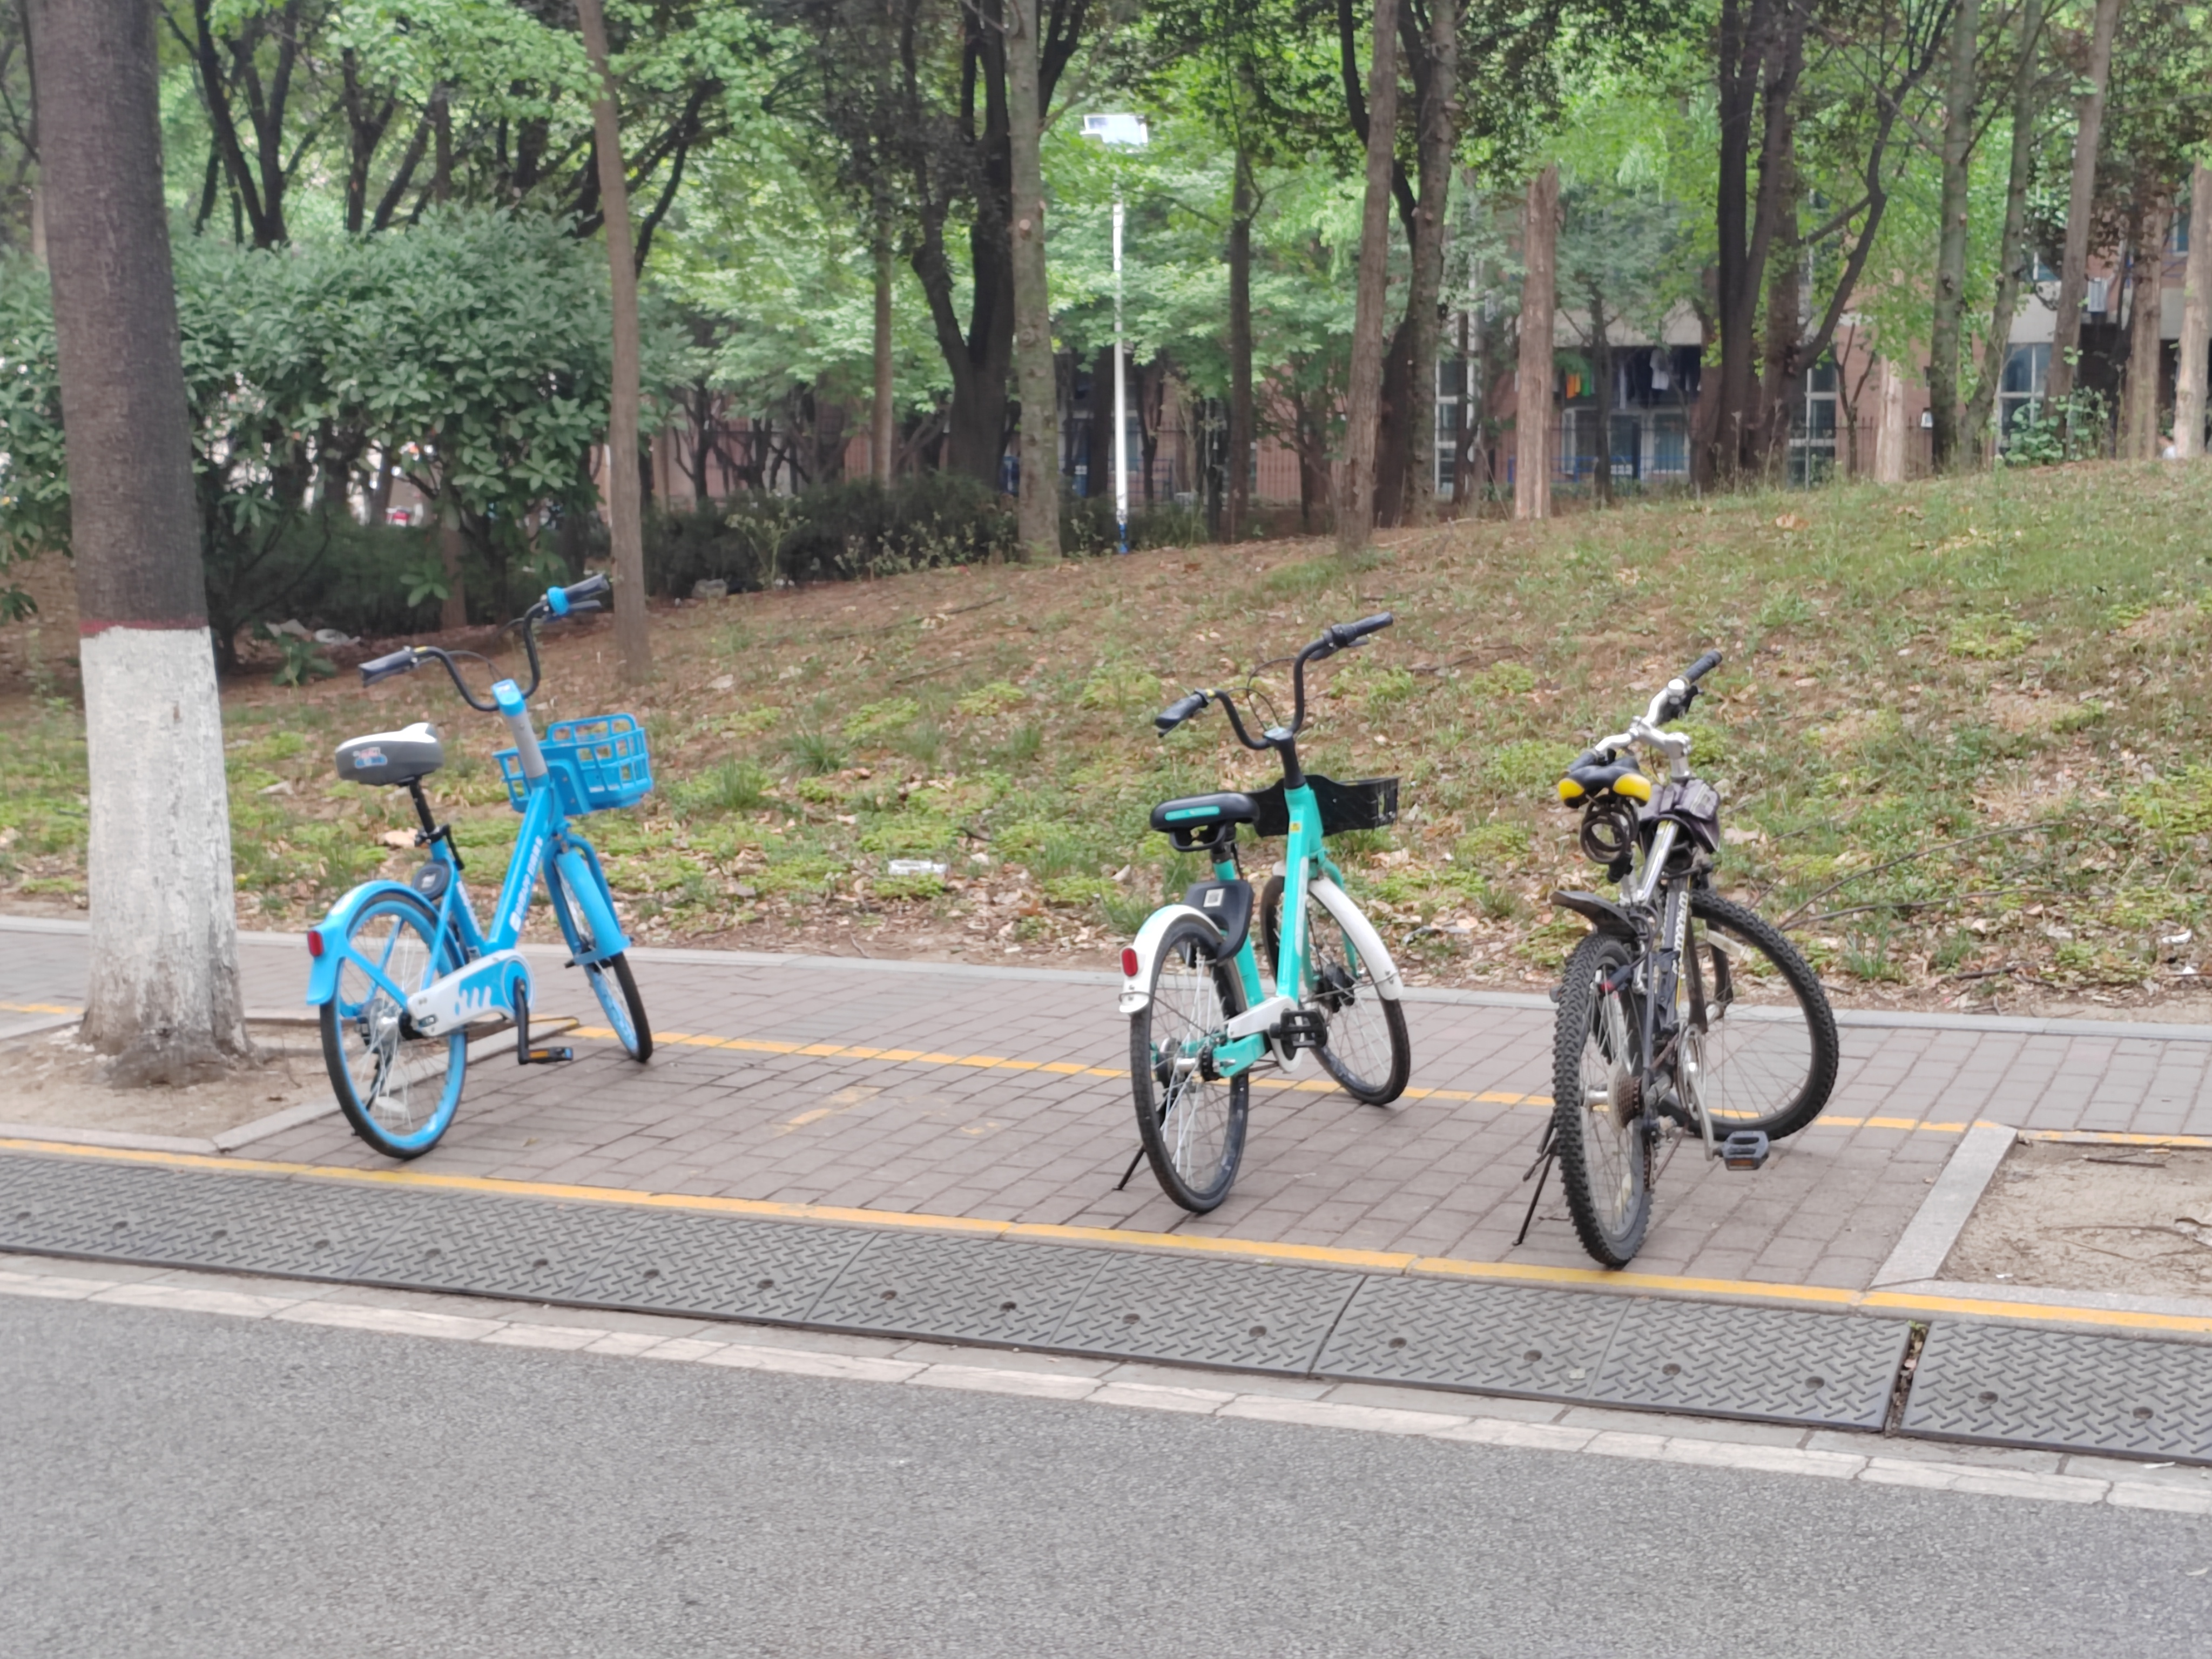others: (1507, 645, 1851, 1288)
shared_bike_haluo: (300, 587, 712, 1159)
shared_bike_qingcong: (1090, 610, 1435, 1206)
